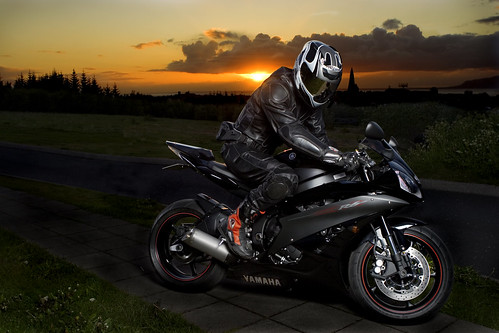helmet: (289, 33, 346, 109)
